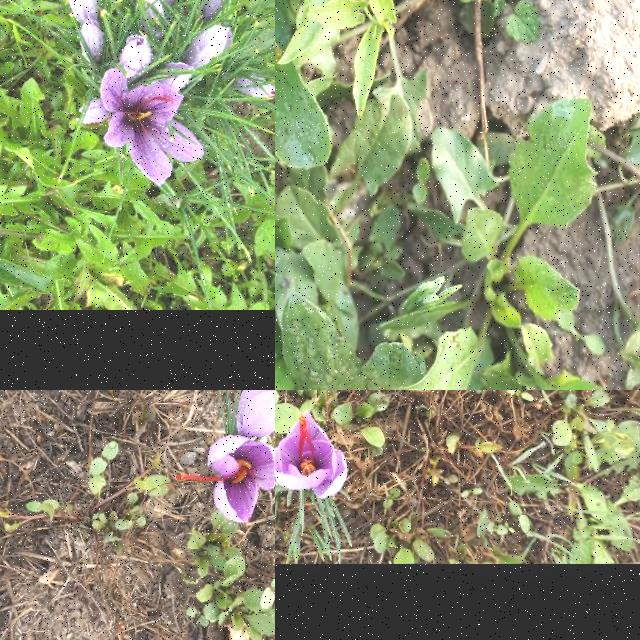flower: (99, 69, 205, 187), (177, 435, 275, 524), (275, 413, 347, 499), (180, 25, 234, 73), (236, 390, 275, 437), (117, 34, 153, 78), (135, 0, 168, 38), (80, 18, 106, 62), (159, 64, 195, 92), (66, 0, 100, 27), (234, 77, 275, 99), (199, 0, 229, 22)
